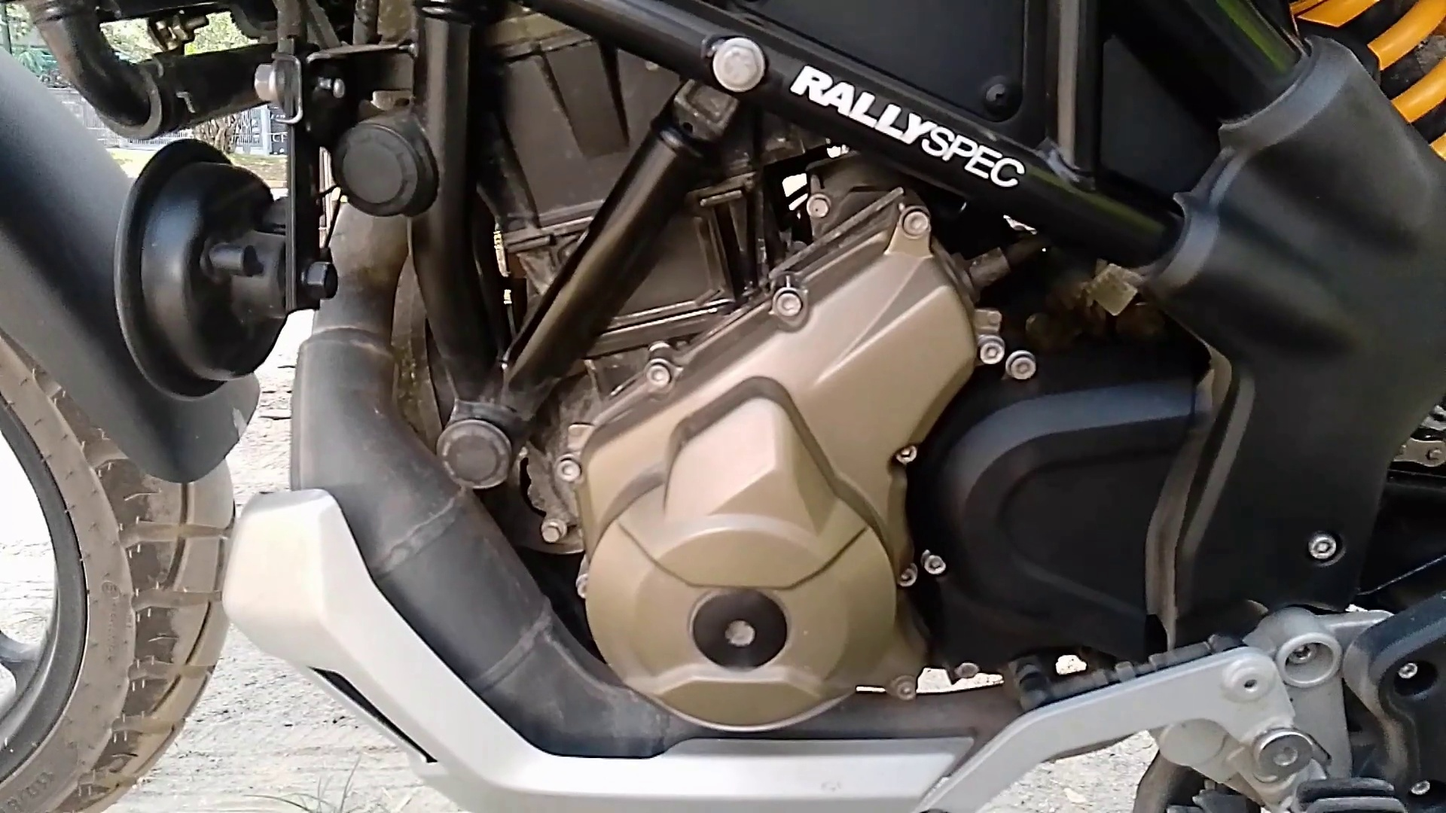engine: (508, 149, 1022, 762)
